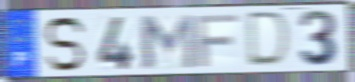3: (298, 9, 341, 69)
4: (96, 14, 137, 73)
D: (245, 10, 294, 69)
F: (193, 12, 241, 69)
M: (137, 12, 198, 70)
S: (42, 16, 87, 74)
